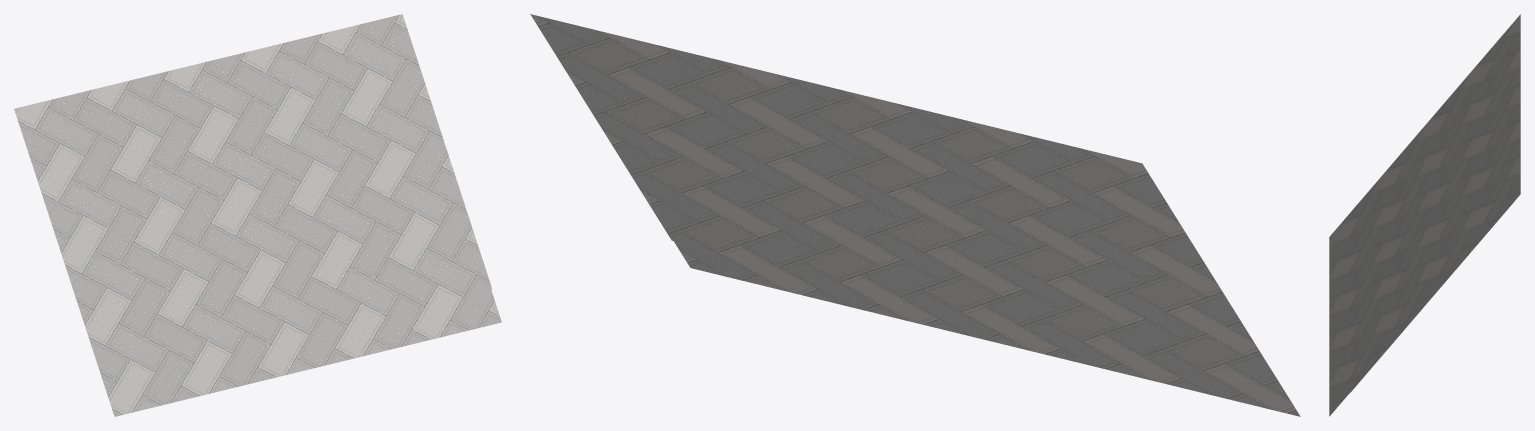
Rendered from kd_stage_135c43_3_13_bounded.glb.
3 renders of one model, left to right at view 1: azimuth 30°, elevation 25°; view 2: azimuth 150°, elevation 25°; view 3: azimuth 270°, elevation 25°, orthographic. The views are drawn at different scales.
Parts seen in each view (by area): view 1: kd_stage_135c43_3_13_bounded; view 2: kd_stage_135c43_3_13_bounded; view 3: kd_stage_135c43_3_13_bounded.
Part boxes in pixels (box(x1,y1,x2,y2)): kd_stage_135c43_3_13_bounded: box(14, 14, 501, 416); kd_stage_135c43_3_13_bounded: box(530, 14, 1300, 416); kd_stage_135c43_3_13_bounded: box(1329, 14, 1520, 416).
Size of the model in its own units: 5.43 by 3.13 by 2.44.
1 material, 1 textured.
